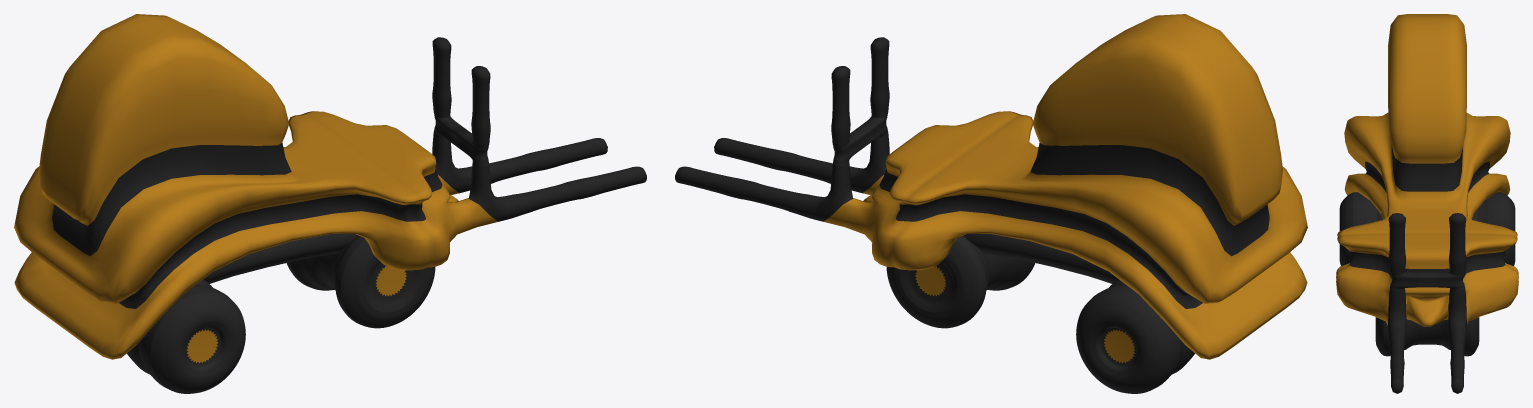
The model's file is ForkLiftEmpty.fbx.
3 views of the same model, side by side, from view 1: azimuth 30°, elevation 25°; view 2: azimuth 150°, elevation 25°; view 3: azimuth 270°, elevation 25° (orthographic). The views are drawn at different scales.
Parts seen in each view (by area): view 1: Cube.028, Cylinder.003, Cylinder.004, Cube.032; view 2: Cube.028, Cylinder.003, Cylinder.004, Cube.032; view 3: Cube.028, Cylinder.003, Cylinder.004.
Part boxes in pixels (left/top/right/bottom): Cube.028: left=14, top=14, right=646, bottom=359; Cylinder.003: left=127, top=279, right=245, bottom=393; Cylinder.004: left=286, top=235, right=435, bottom=328; Cube.032: left=203, top=234, right=357, bottom=283; Cube.028: left=675, top=14, right=1307, bottom=359; Cylinder.003: left=1076, top=279, right=1194, bottom=393; Cylinder.004: left=886, top=235, right=1035, bottom=328; Cube.032: left=964, top=234, right=1118, bottom=283; Cube.028: left=1336, top=14, right=1518, bottom=393; Cylinder.003: left=1339, top=192, right=1515, bottom=265; Cylinder.004: left=1375, top=317, right=1479, bottom=356.
Bounding box in the file's own units: 2477 × 1382 × 898.
